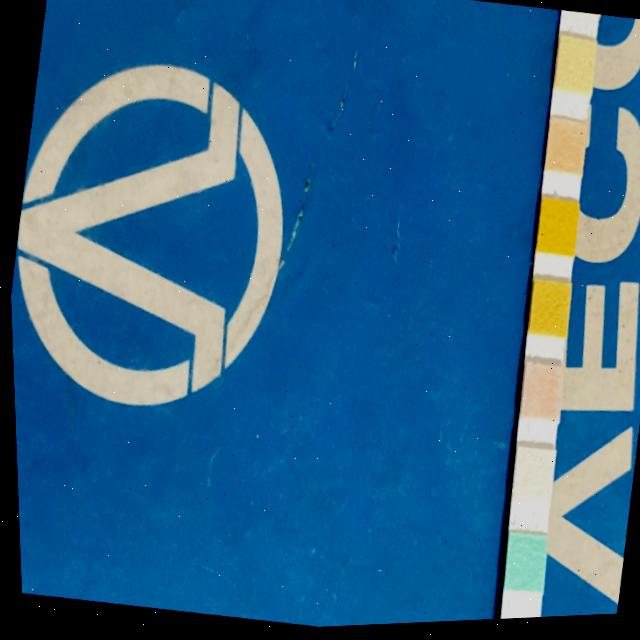Bilirubin: (508, 451, 550, 506)
Blood: (533, 203, 577, 261)
Glucose: (499, 537, 544, 596)
Ketone: (517, 368, 561, 424)
Protein: (552, 42, 595, 95)
SpGravity: (526, 284, 568, 338)
pH: (544, 124, 585, 175)
